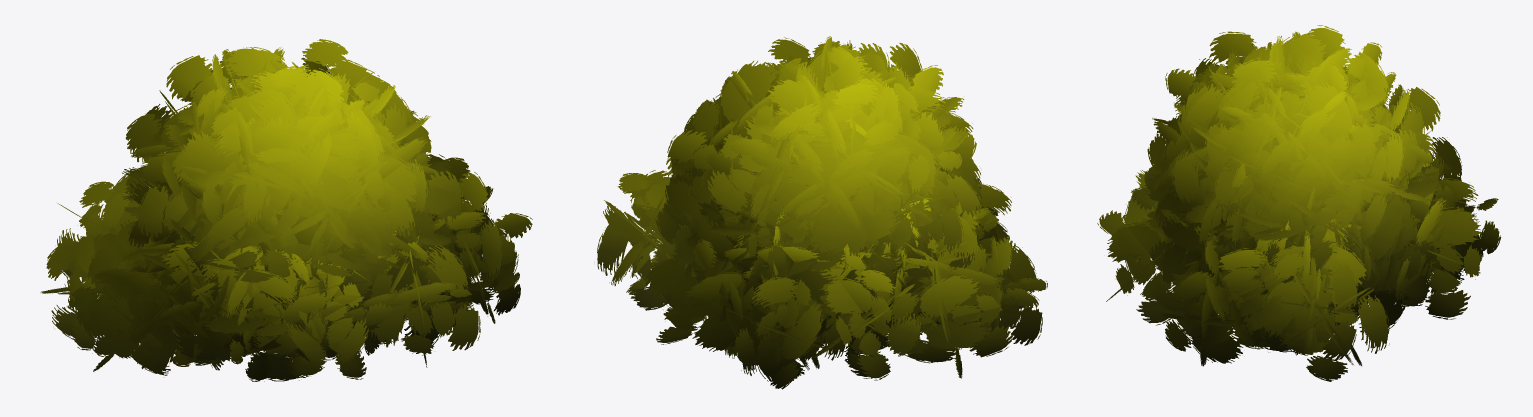
The model's file is SM_Bushes.fbx.
3 renders of one model, left to right at view 1: azimuth 30°, elevation 25°; view 2: azimuth 150°, elevation 25°; view 3: azimuth 270°, elevation 25°, orthographic. The views are drawn at different scales.
Parts seen in each view (by area): view 1: 02, 04, 03, 01; view 2: 02, 04, 03, 01; view 3: 02, 04, 01, 03.
Boxes of the visible parts, x1,y1,x2,y2 form: 02: (120,39,463,381); 04: (40,154,532,379); 03: (100,238,459,366); 01: (199,92,410,360); 02: (656,36,1000,366); 04: (597,157,1047,389); 03: (652,202,991,379); 01: (701,107,941,290); 02: (1131,25,1444,352); 04: (1097,137,1501,381); 01: (1170,74,1416,305); 03: (1178,197,1460,349).
Bounding box in the file's own units: 310 × 209 × 277.
